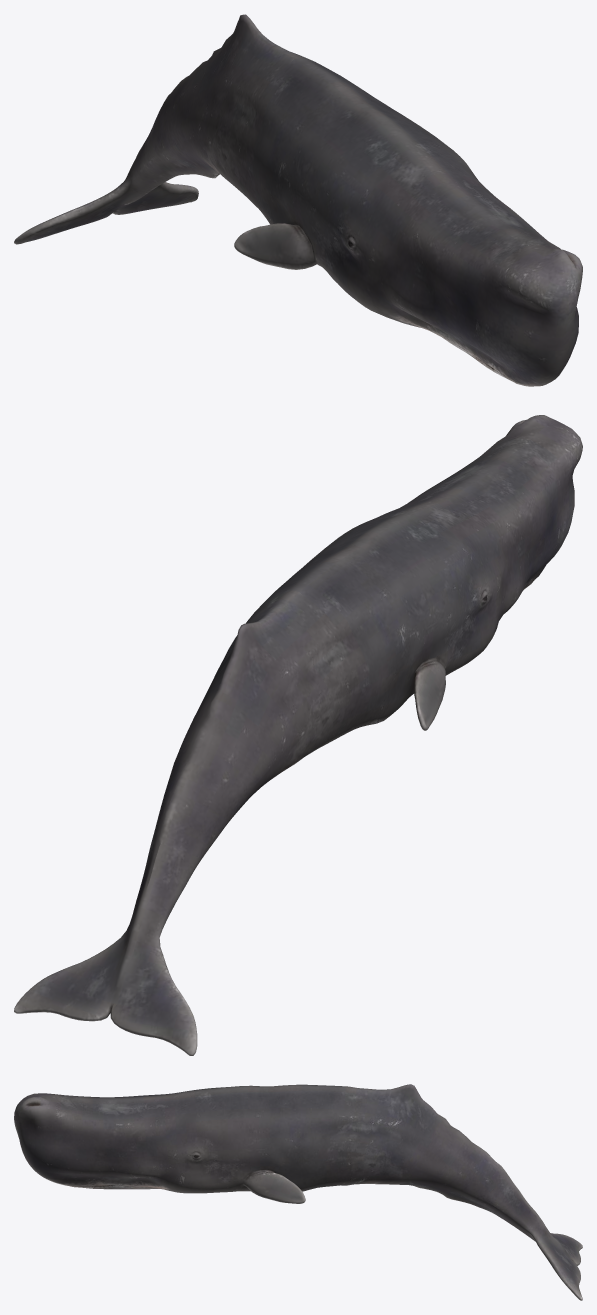
Rendered from spermwhale.glb.
The picture shows the model from 3 angles, top to bottom: view 1: azimuth 30°, elevation 25°; view 2: azimuth 150°, elevation 25°; view 3: azimuth 270°, elevation 25°; orthographic projection. The views are drawn at different scales.
Parts seen in each view (by area): view 1: cachalot_low:polySurface1; view 2: cachalot_low:polySurface1; view 3: cachalot_low:polySurface1.
Boxes of the visible parts, x1,y1,x2,y2 form: cachalot_low:polySurface1: (14,14,582,386); cachalot_low:polySurface1: (14,415,582,1055); cachalot_low:polySurface1: (14,1084,582,1300).
Bounding box in the file's own units: 4.71 × 7.14 × 19.41.
1 material, 1 textured.
